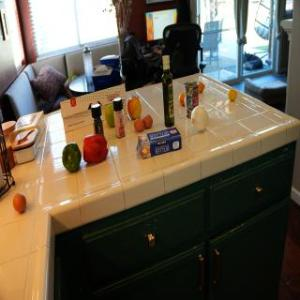bell_pepper: (82, 132, 110, 164), (61, 142, 81, 172)
egg: (12, 191, 26, 213), (133, 120, 145, 132), (146, 114, 154, 128)
onion: (191, 103, 209, 131)
